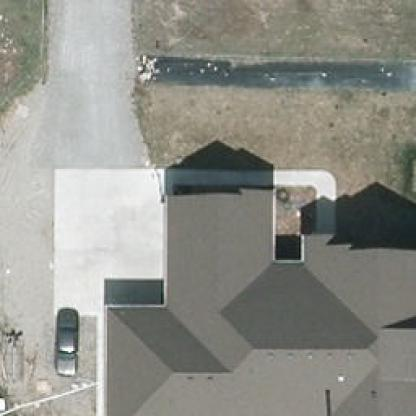car: (50, 306, 80, 378)
